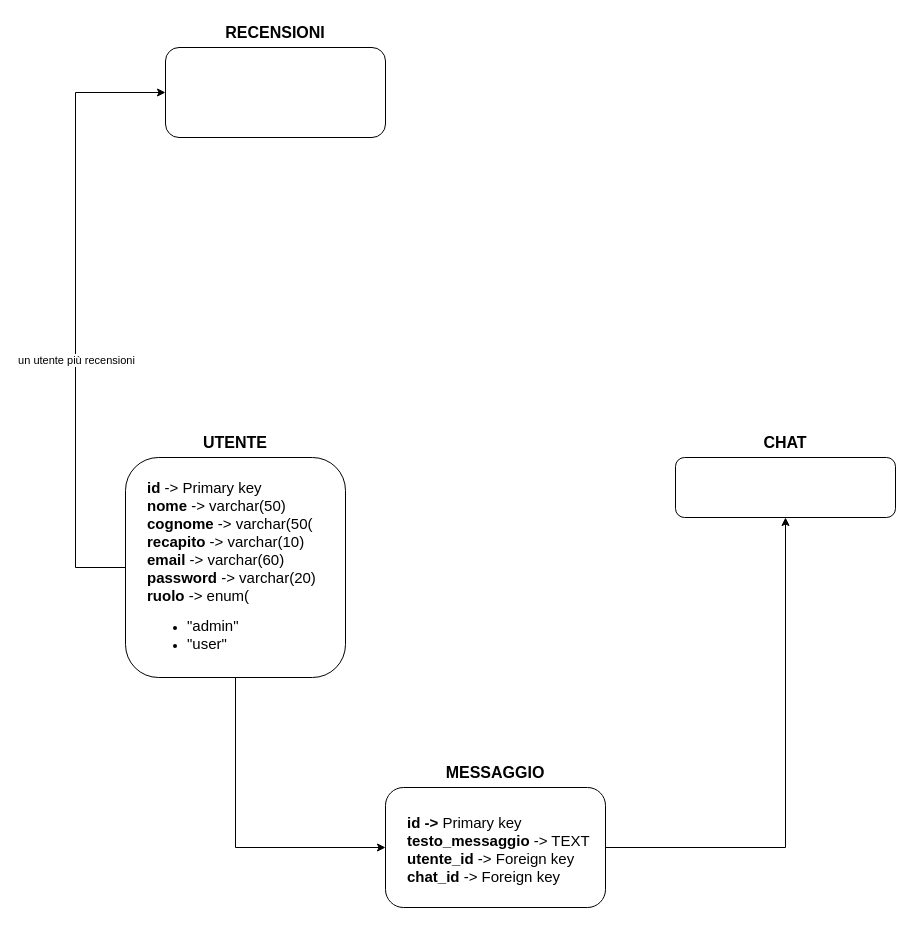
This 913x927 diagram has some shape labels left out. The box of each missing label's shape, as (x1, y1, x2, y2) in pixels:
id -> Primary key: (674, 456, 896, 518)
id -> Primary key recensione -> text utente_id -> Foreign key: (164, 46, 386, 138)
